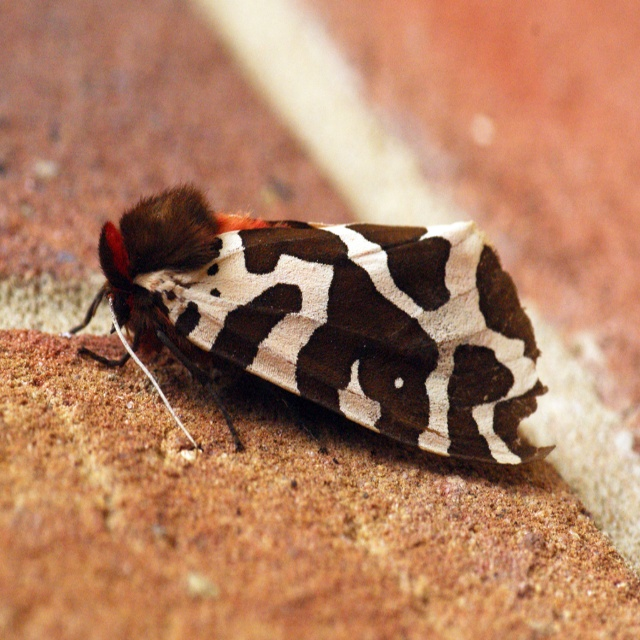Moths and butterflies: (68, 176, 559, 468)
